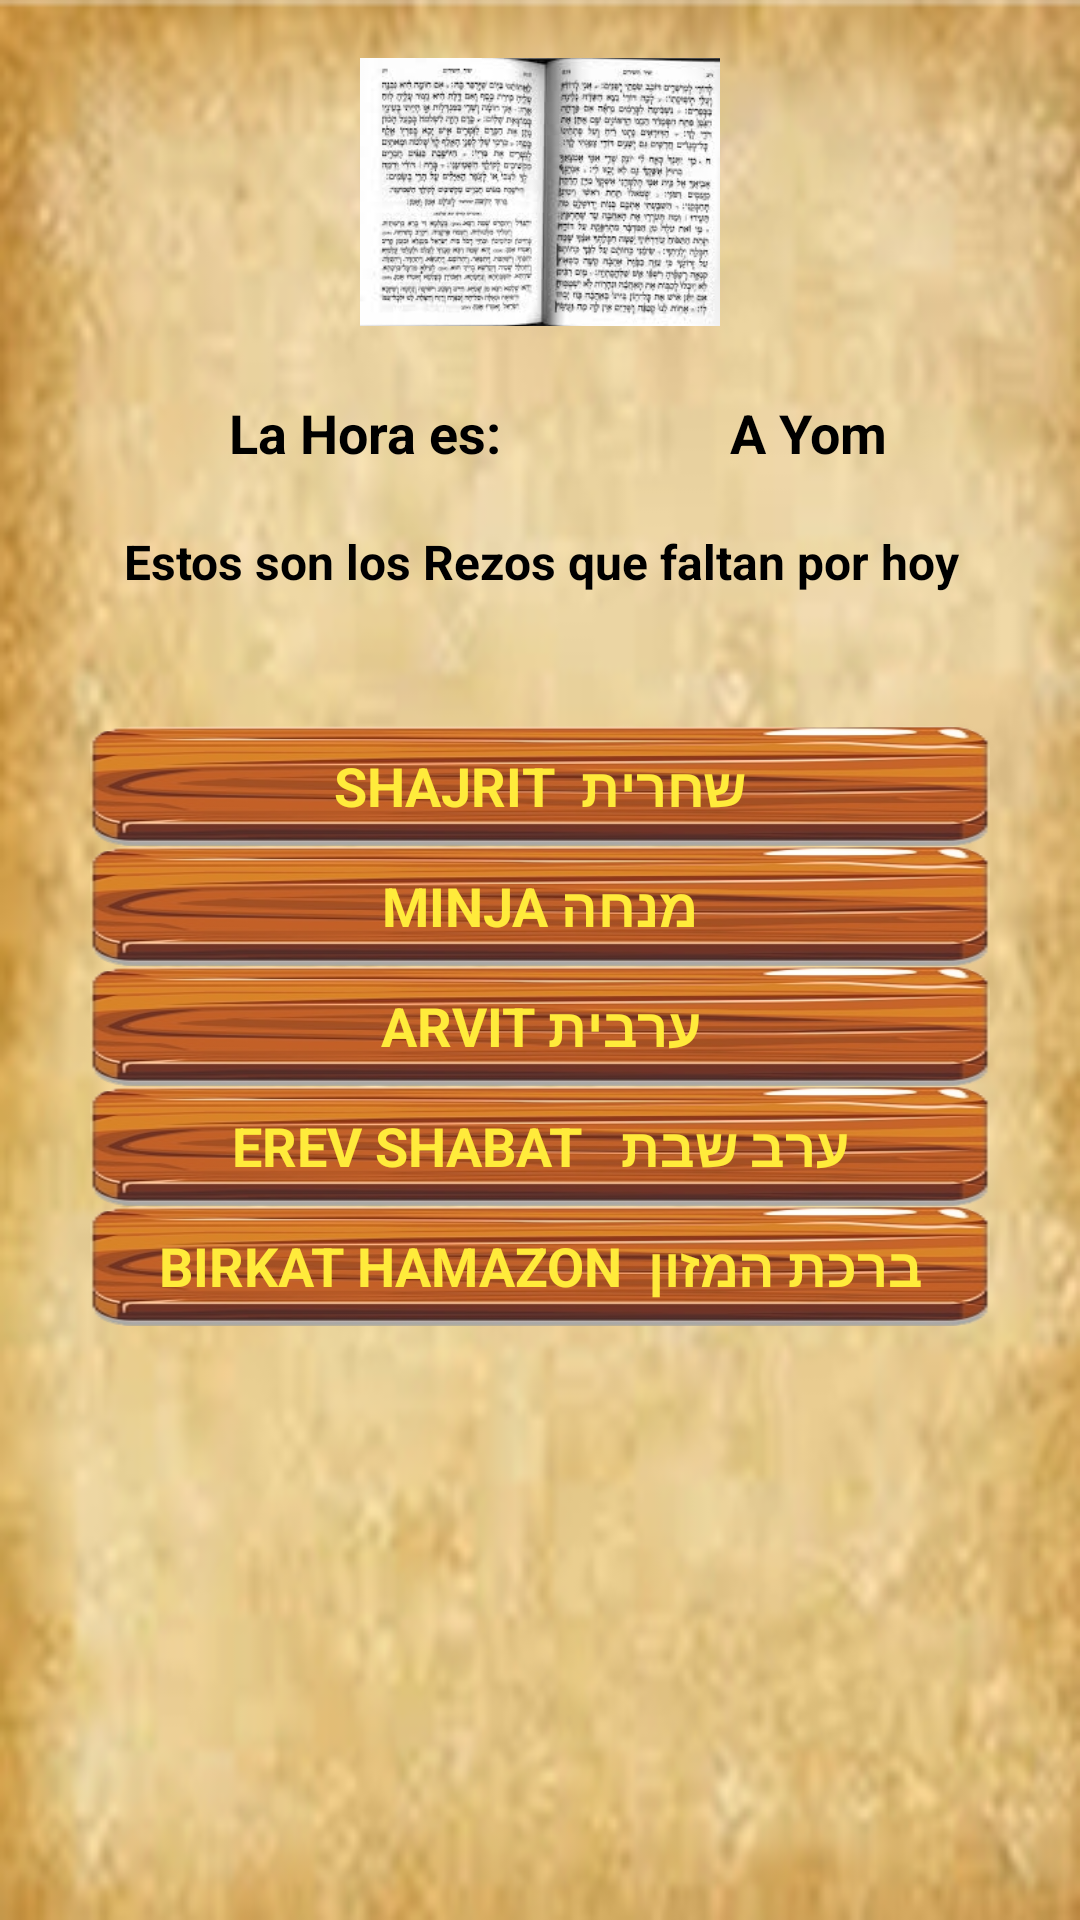

Icons on this 1080px x 1920px Android screen, each with the point to tap as (x=x, y=y):
imagensidur: (x=540, y=169)
